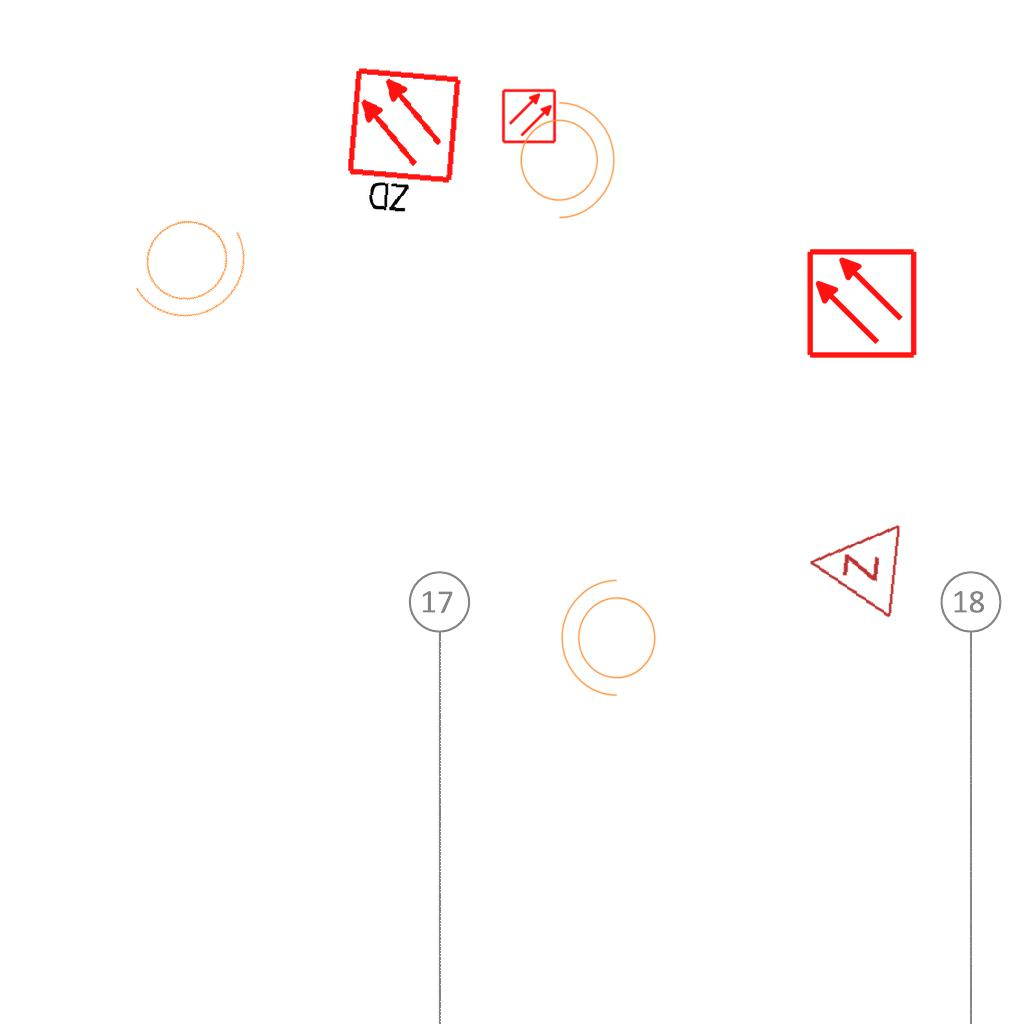RMO_Rauchmelder_optischer: (805, 247, 918, 360), (501, 88, 557, 144)
Scheinwerfer_fuer_Alarmbeleuchtung: (107, 182, 277, 344), (556, 575, 668, 707), (508, 91, 620, 223)
ZD_Melder_in_Zwischendecke_mit_Revisionsoeffnung_mind_40_x_40_cm: (340, 65, 468, 224)
Zimmersignalleuchte: (798, 514, 908, 622)
